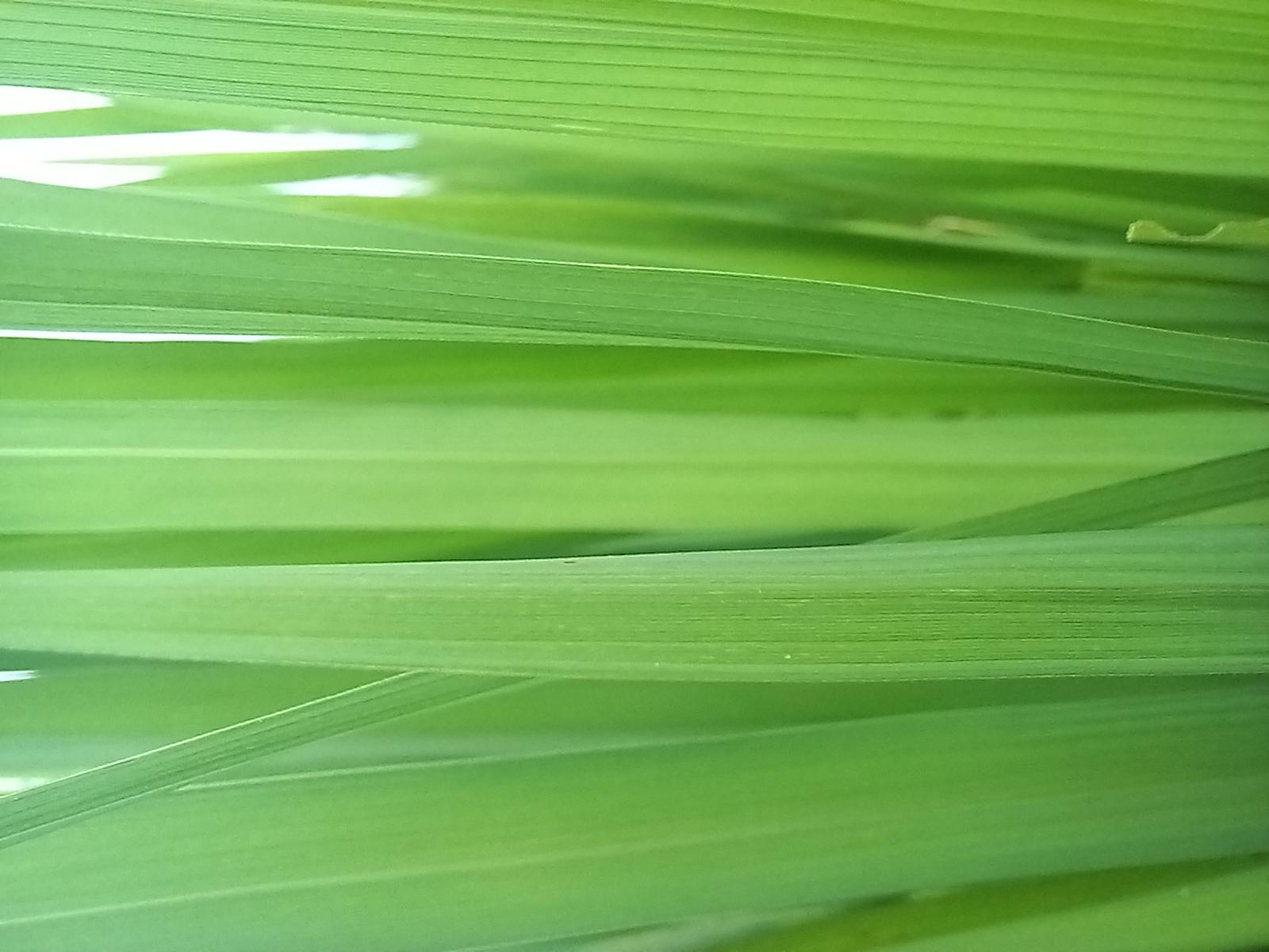Healthy: (361, 0, 569, 951)
